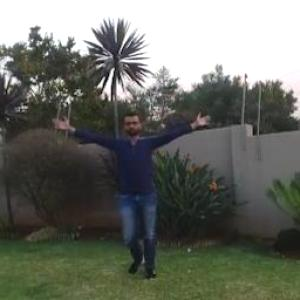takeoff: (61, 102, 206, 272)
